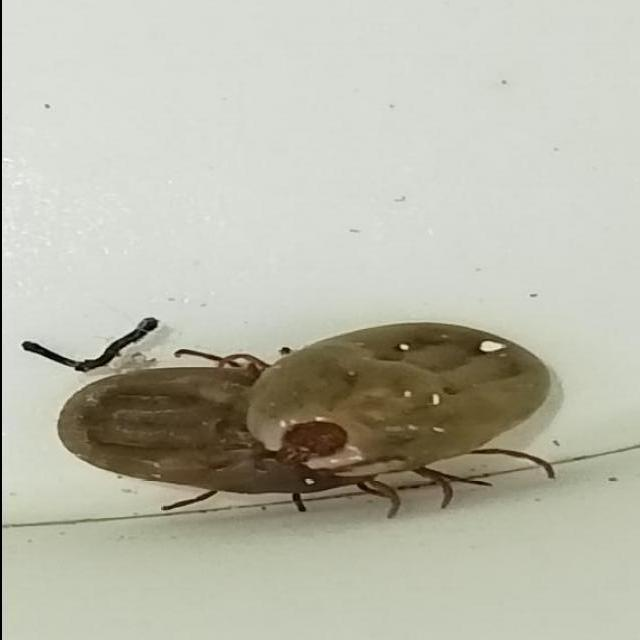Rhipicephalus Sanguineus-F-Fed: (242, 323, 563, 510)
